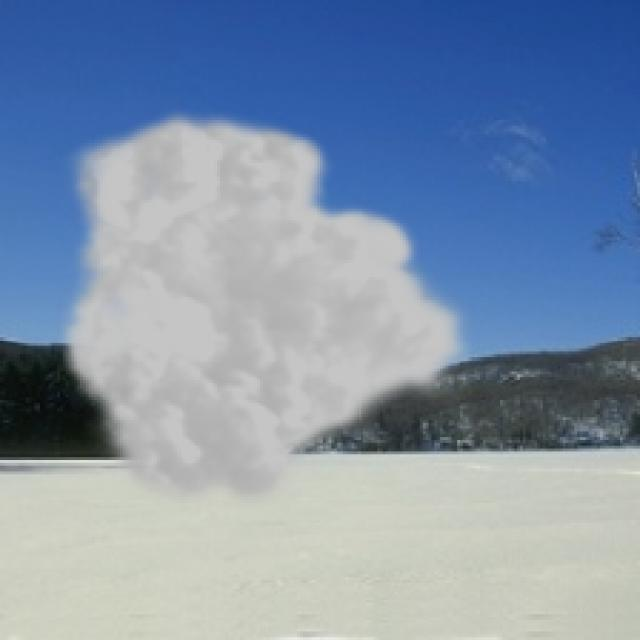smoke: (57, 106, 477, 517)
